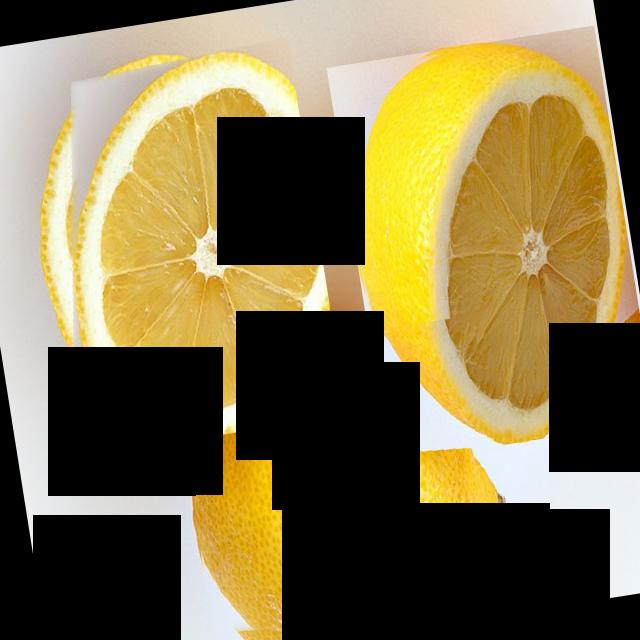lemon: (12, 33, 347, 458), (327, 25, 640, 463), (170, 314, 523, 640)
